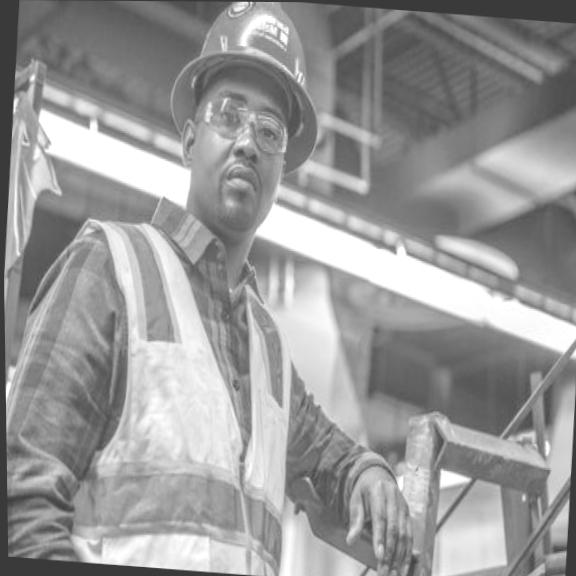safety_vest: (62, 220, 304, 576)
